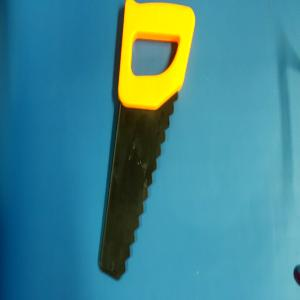serrote: (99, 0, 196, 282)
